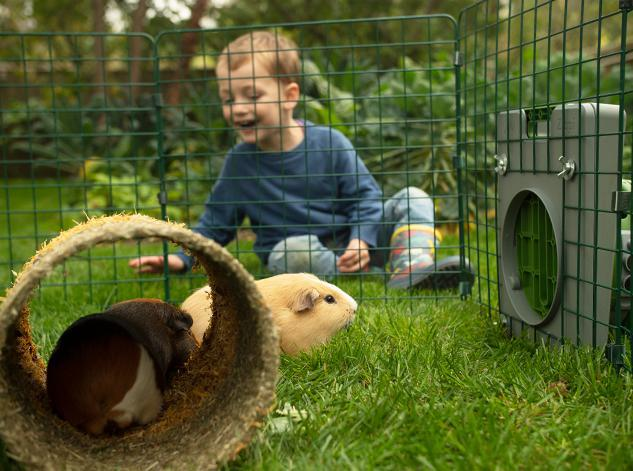child: (179, 27, 488, 290)
